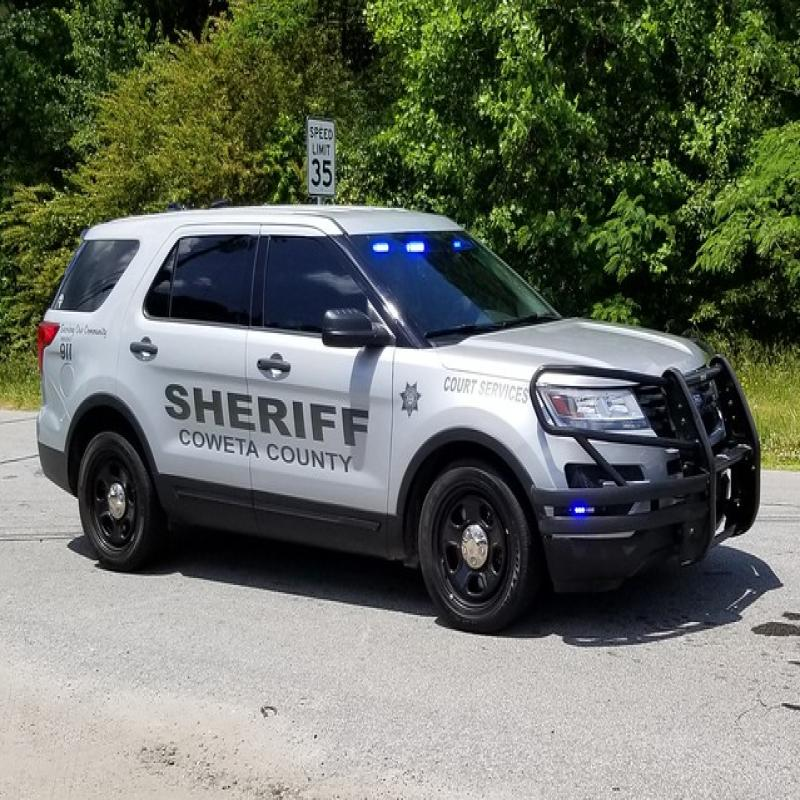AmbulanceSiren: (359, 236, 487, 266)
